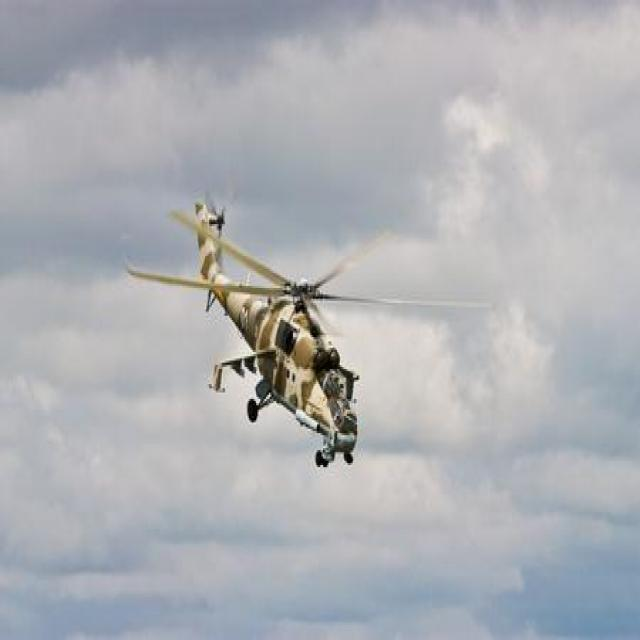MIL_HELO: (117, 162, 496, 487)
